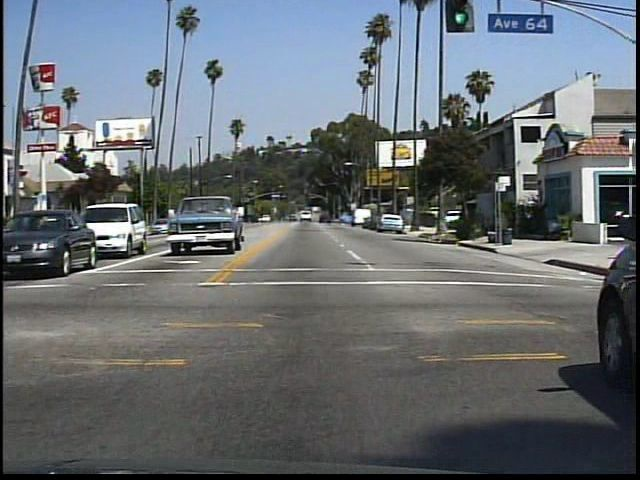person: (471, 199, 493, 243)
